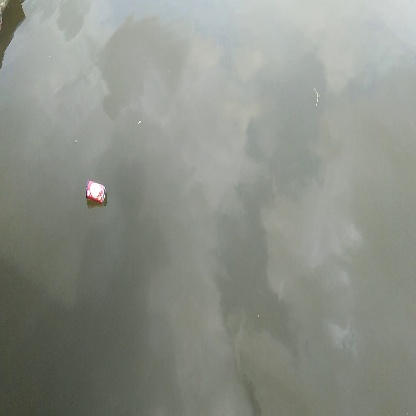bottle: (82, 179, 108, 205)
